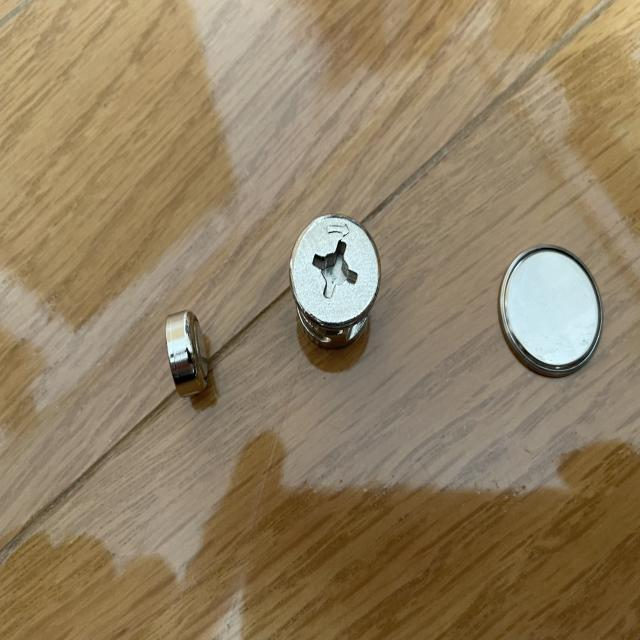COIN: (498, 244, 604, 377), (163, 312, 210, 398)
